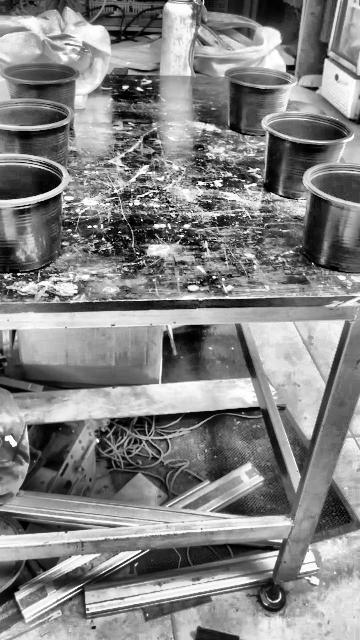pot: (262, 111, 353, 199), (0, 155, 66, 275), (302, 164, 360, 275), (0, 98, 73, 167), (225, 68, 295, 133), (1, 63, 79, 110)
